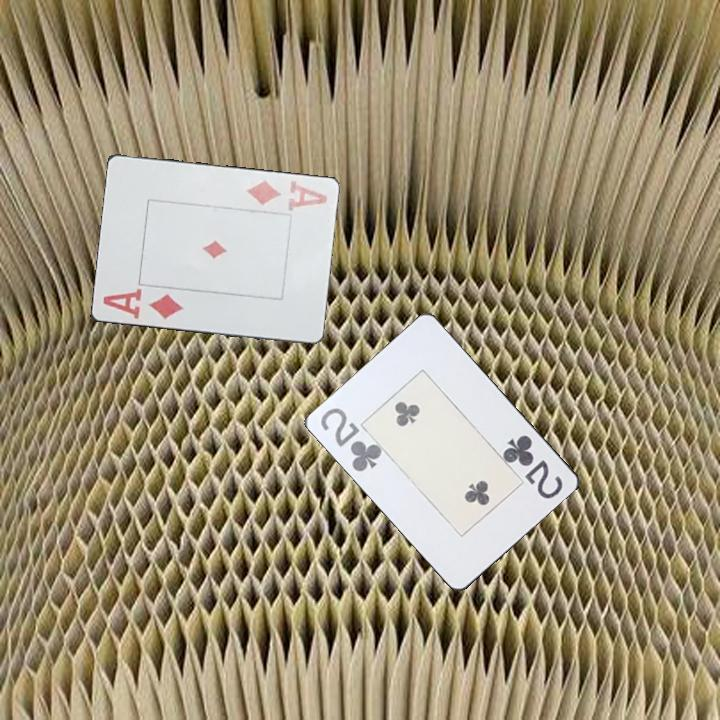2c: (317, 404, 384, 475), (500, 431, 565, 502)
Ad: (242, 176, 330, 214), (99, 285, 186, 323)
